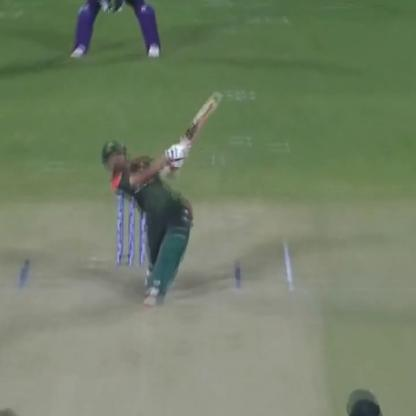pitch: (5, 238, 312, 410)
